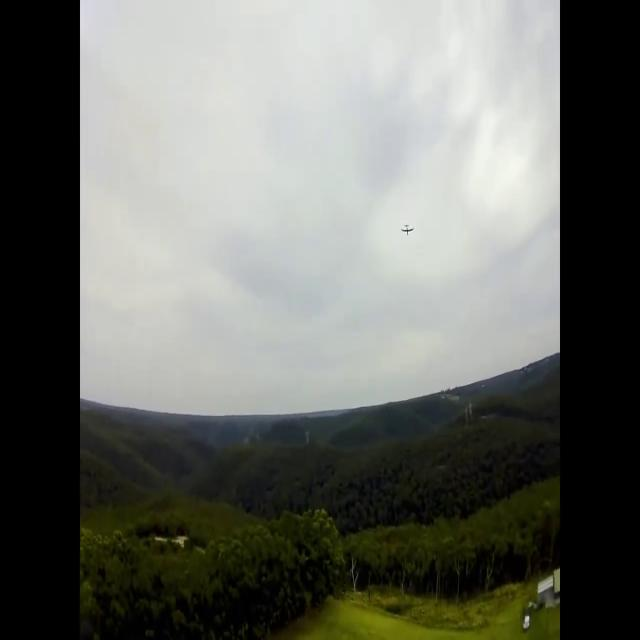iha: (402, 230, 415, 232)
